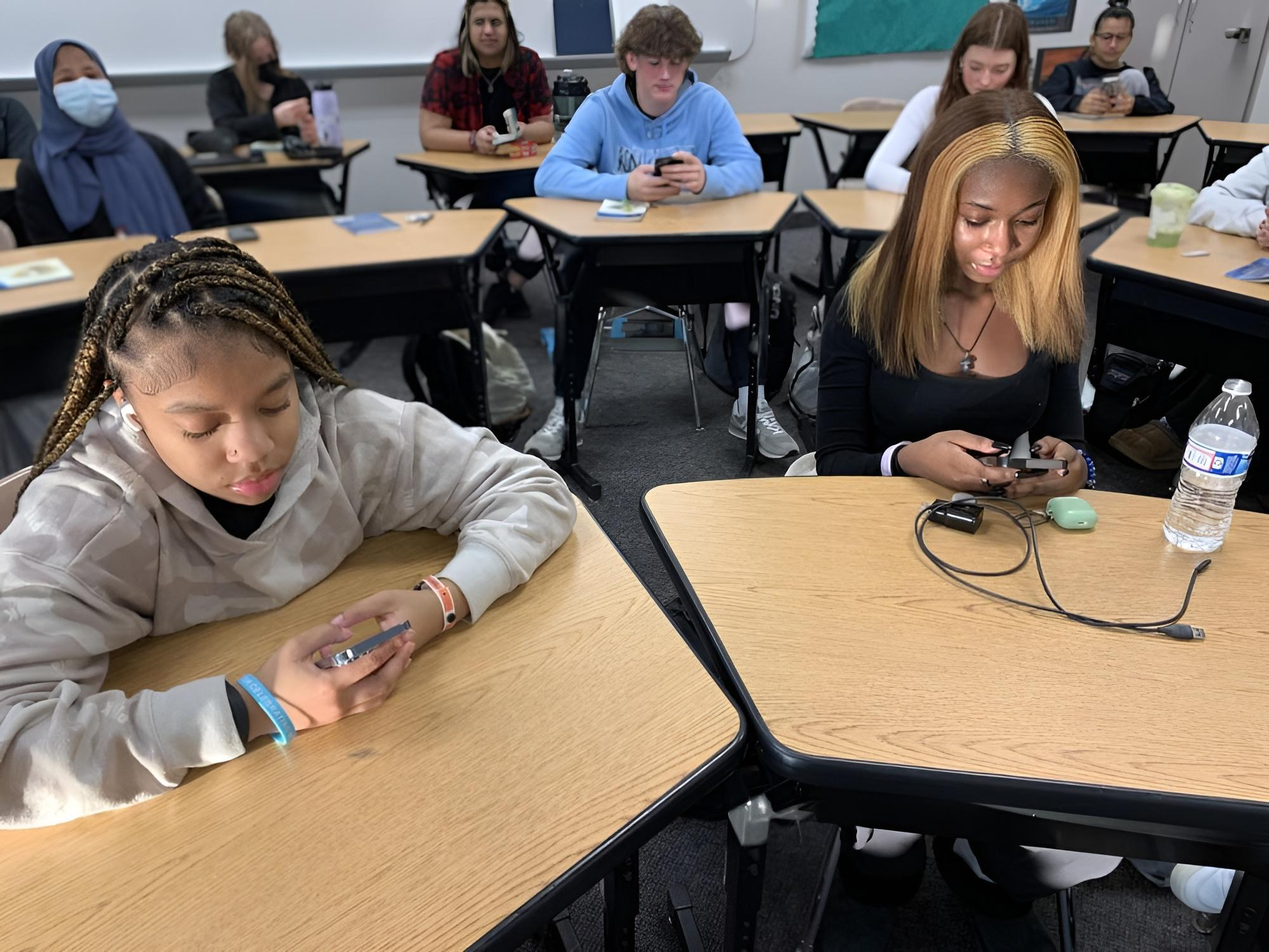phone: (0, 233, 573, 813), (809, 93, 1093, 505), (534, 8, 762, 205), (415, 0, 557, 150), (201, 6, 339, 152)
study: (0, 31, 221, 237)
